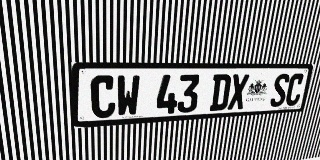3: (177, 74, 200, 113)
4: (156, 75, 179, 114)
C: (90, 75, 116, 119), (284, 73, 305, 106)
D: (209, 74, 232, 111)
S: (269, 74, 291, 107)
W: (116, 75, 140, 117)
X: (227, 74, 250, 110)
